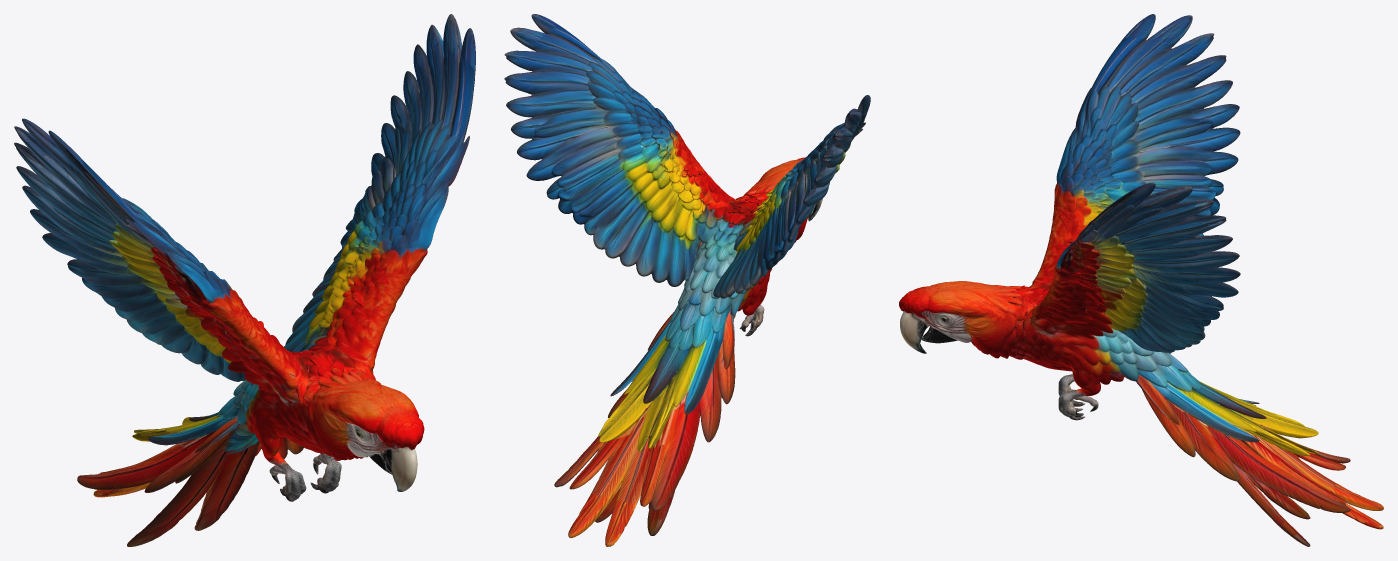
The model's file is scarletmacaw.glb.
The picture shows the model from 3 angles, left to right: view 1: azimuth 30°, elevation 25°; view 2: azimuth 150°, elevation 25°; view 3: azimuth 270°, elevation 25°; orthographic projection. The views are drawn at different scales.
Parts seen in each view (by area): view 1: Object_6, Object_4, Object_5, Object_8, Object_11, Object_7, Object_9, Object_10, Object_12; view 2: Object_10, Object_9, Object_11, Object_8, Object_4, Object_5, Object_7, Object_6, Object_12; view 3: Object_5, Object_8, Object_4, Object_6, Object_9, Object_10, Object_11, Object_7, Object_12.
Boxes of the visible parts, bbox=[...] form: Object_6: bbox=[151, 194, 447, 501]; Object_4: bbox=[14, 22, 469, 536]; Object_5: bbox=[24, 45, 460, 490]; Object_8: bbox=[17, 27, 475, 427]; Object_11: bbox=[22, 16, 468, 474]; Object_7: bbox=[92, 99, 472, 498]; Object_9: bbox=[14, 24, 443, 502]; Object_10: bbox=[22, 14, 453, 546]; Object_12: bbox=[54, 47, 468, 432]; Object_10: bbox=[510, 28, 853, 546]; Object_9: bbox=[504, 50, 845, 442]; Object_11: bbox=[512, 15, 868, 387]; Object_8: bbox=[504, 14, 870, 308]; Object_4: bbox=[506, 28, 870, 505]; Object_5: bbox=[514, 44, 849, 505]; Object_7: bbox=[578, 40, 865, 336]; Object_6: bbox=[655, 108, 822, 335]; Object_12: bbox=[545, 20, 870, 314]; Object_5: bbox=[899, 42, 1331, 500]; Object_8: bbox=[1100, 33, 1238, 380]; Object_4: bbox=[946, 14, 1291, 518]; Object_6: bbox=[899, 114, 1113, 420]; Object_9: bbox=[1155, 33, 1259, 481]; Object_10: bbox=[1148, 16, 1383, 546]; Object_11: bbox=[1130, 14, 1193, 449]; Object_7: bbox=[1071, 58, 1134, 418]; Object_12: bbox=[1127, 30, 1149, 386].
Bounding box in the file's own units: 1.6 × 1.88 × 1.9.
1 material, 1 textured.
